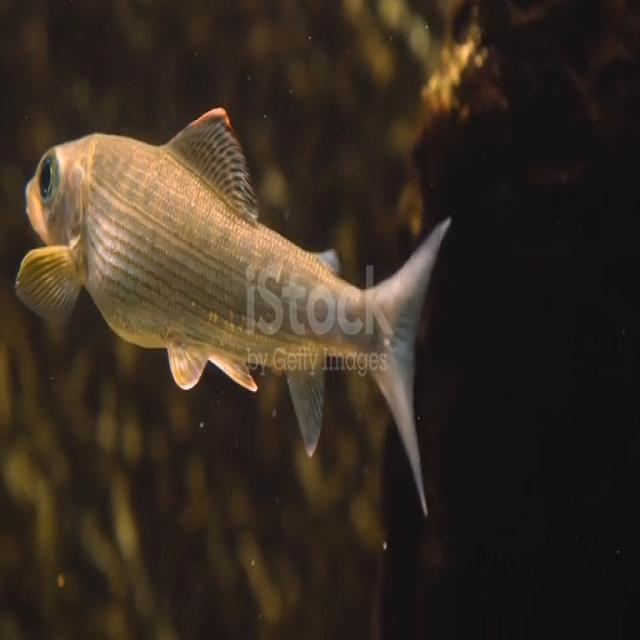fish: (14, 99, 454, 534)
